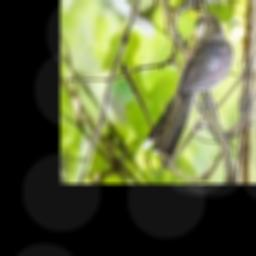Cuckoo: (140, 12, 234, 160)
